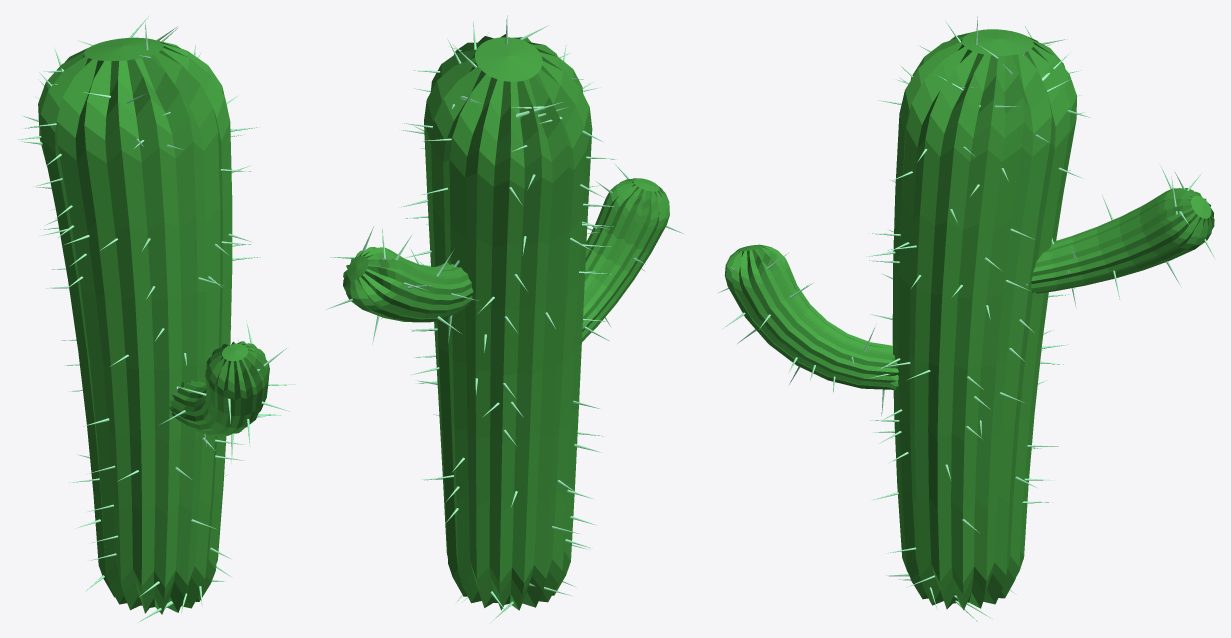
File: CurvyCactus.fbx
3 renders of one model, left to right at view 1: azimuth 30°, elevation 25°; view 2: azimuth 150°, elevation 25°; view 3: azimuth 270°, elevation 25°, orthographic. The views are drawn at different scales.
Parts seen in each view (by area): view 1: Body; view 2: Body; view 3: Body.
Part boxes in pixels (box(x1,y1,x2,y2)): Body: box(38, 37, 269, 614); Body: box(343, 34, 669, 610); Body: box(724, 29, 1214, 610).
Bounding box in the file's own units: 163 × 442 × 341.
